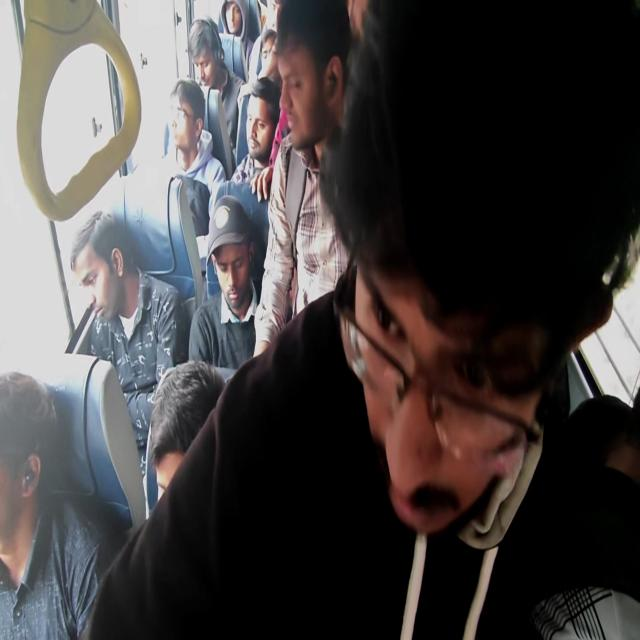person: (350, 21, 595, 516), (84, 237, 204, 394), (0, 401, 61, 599), (287, 14, 363, 164), (218, 223, 279, 361), (147, 390, 201, 528), (170, 91, 221, 194), (245, 76, 282, 180), (220, 0, 258, 63), (262, 34, 293, 100), (197, 26, 222, 89)
